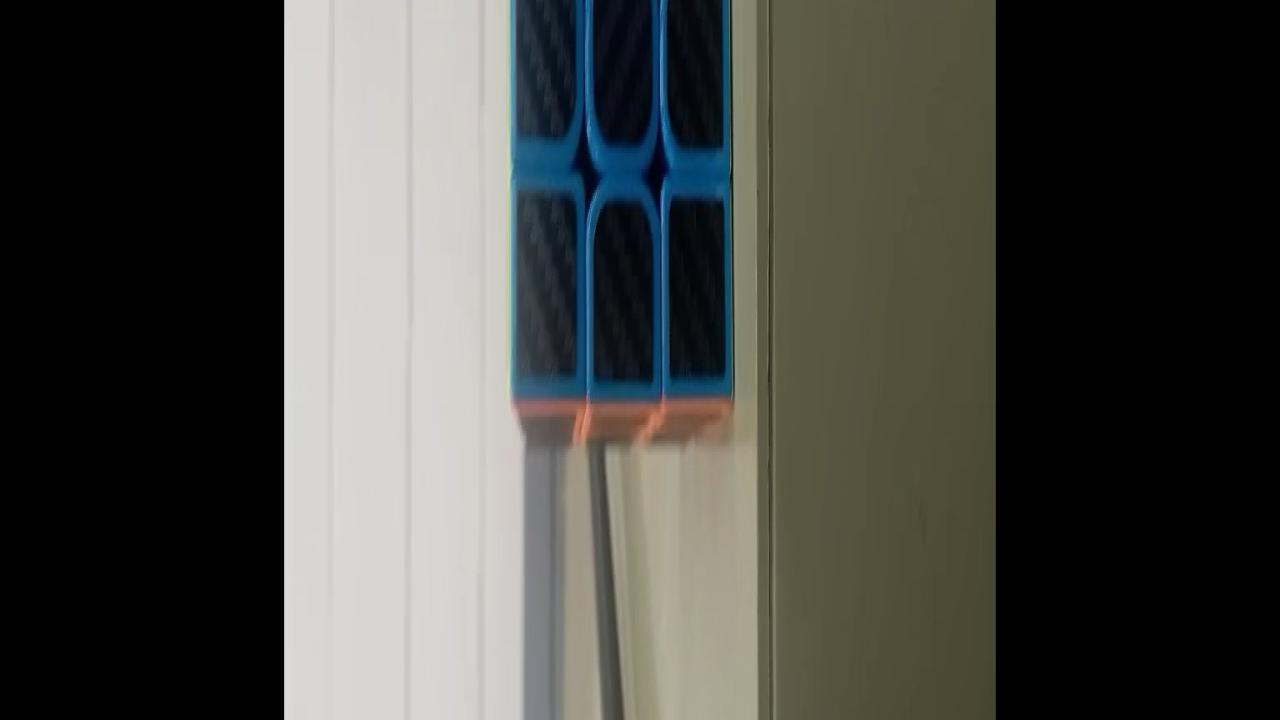Cube: (505, 0, 734, 453)
